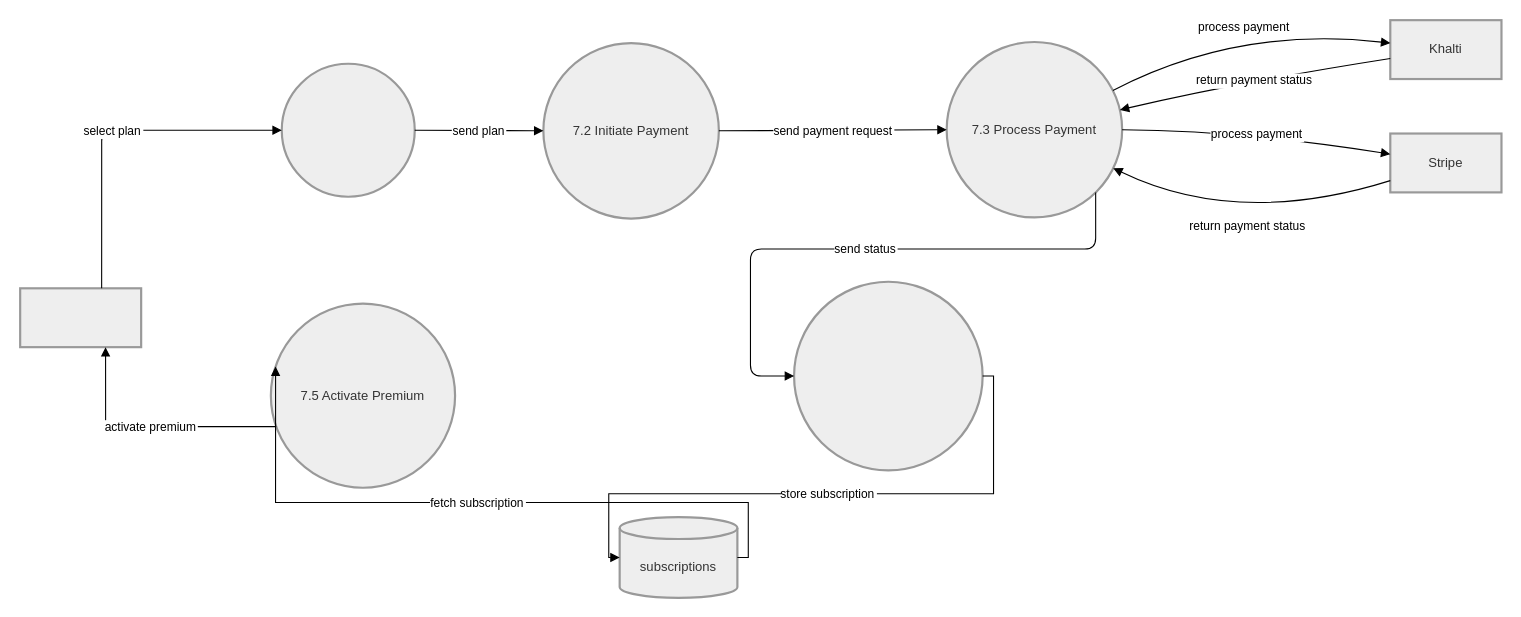
Image size: 1521x617. Some labels were removed from this diagram. The centre of each missing label's shape, as x and y in pixels:
7.1 Select Plan: the point at 347,129
7.4 Store Subscription: the point at 887,375
Farmer: the point at 80,317
